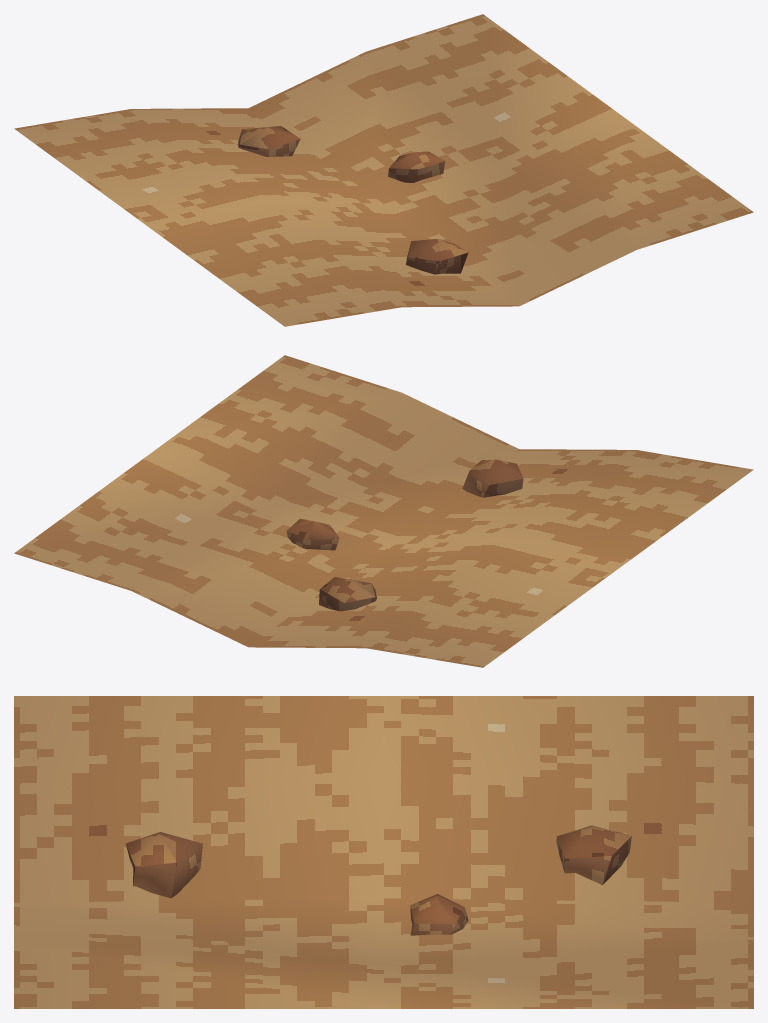
Rendered from land.wash__narrow.glb.
The picture shows the model from 3 angles, top to bottom: view 1: azimuth 30°, elevation 25°; view 2: azimuth 150°, elevation 25°; view 3: azimuth 270°, elevation 25°; orthographic projection. The views are drawn at different scales.
Visible parts, largest first — view 1: kit_shell_ground, kit_pebbles; view 2: kit_shell_ground, kit_pebbles; view 3: kit_shell_ground, kit_pebbles.
Part boxes in pixels (bbox=[...]): kit_shell_ground: bbox=[14, 14, 753, 326]; kit_pebbles: bbox=[238, 126, 468, 274]; kit_shell_ground: bbox=[14, 355, 753, 667]; kit_pebbles: bbox=[286, 459, 523, 611]; kit_shell_ground: bbox=[14, 696, 753, 1008]; kit_pebbles: bbox=[125, 825, 631, 935].
Bounding box in the file's own units: 4 × 0.3 × 4.
Materials: 2 (2 with a texture image).
